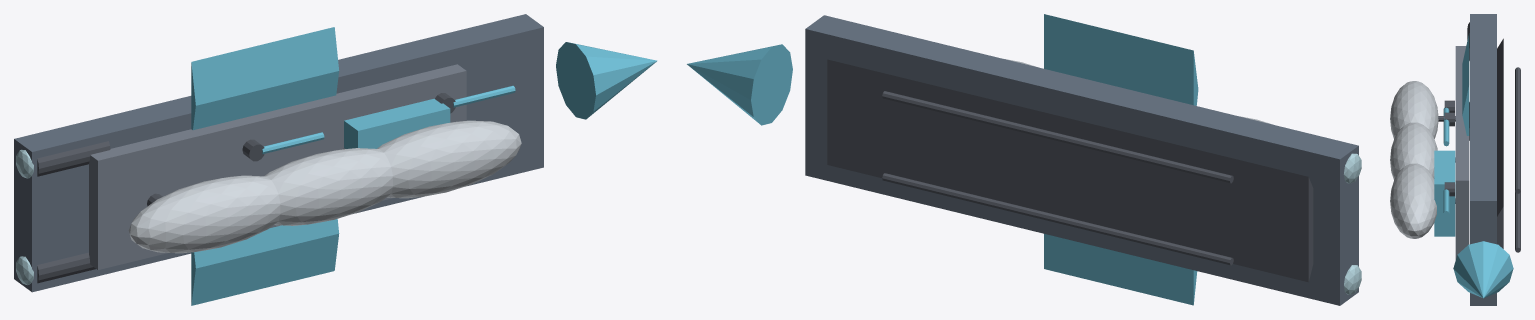
File: SWS-006_tempest_frigate.glb
The picture shows the model from 3 angles, left to right: view 1: azimuth 30°, elevation 25°; view 2: azimuth 150°, elevation 25°; view 3: azimuth 270°, elevation 25°; orthographic projection. The views are drawn at different scales.
Visible parts, largest first — view 1: main_hull, upper_deck, wing_1, aether_lift_bladder_1, wing_-1, aether_lift_bladder_3, aether_lift_bladder_2, aether_nose, bridge, engine_pod_1, engine_pod_-1, turret_barrel_2 (+1 smaller); view 2: keel, main_hull, wing_1, wing_-1, aether_nose, landing_skid_-1, landing_skid_1; view 3: main_hull, aether_lift_bladder_3, aether_nose, upper_deck, aether_lift_bladder_1, aether_lift_bladder_2, bridge, keel, landing_skid_1, wing_1, landing_skid_-1, turret_barrel_4 (+4 smaller).
Part boxes in pixels (x1,y1,x2,y2): main_hull: [14, 14, 543, 292]; upper_deck: [89, 64, 466, 269]; wing_1: [191, 27, 339, 130]; aether_lift_bladder_1: [128, 175, 280, 253]; wing_-1: [191, 219, 339, 305]; aether_lift_bladder_3: [377, 120, 521, 198]; aether_lift_bladder_2: [264, 148, 392, 225]; aether_nose: [556, 42, 657, 119]; bridge: [344, 98, 450, 148]; engine_pod_1: [37, 141, 110, 176]; engine_pod_-1: [37, 252, 95, 283]; turret_barrel_2: [262, 132, 324, 154]; keel: [827, 59, 1313, 282]; main_hull: [805, 15, 1358, 305]; wing_1: [1044, 14, 1198, 105]; wing_-1: [1044, 234, 1197, 305]; aether_nose: [687, 44, 792, 125]; landing_skid_-1: [882, 173, 1233, 265]; landing_skid_1: [882, 91, 1233, 183]; main_hull: [1470, 14, 1496, 305]; aether_lift_bladder_3: [1390, 163, 1436, 238]; aether_nose: [1453, 241, 1513, 298]; upper_deck: [1455, 46, 1469, 259]; aether_lift_bladder_1: [1390, 81, 1438, 138]; aether_lift_bladder_2: [1390, 122, 1437, 179]; bridge: [1434, 150, 1455, 236]; keel: [1497, 38, 1503, 248]; landing_skid_1: [1515, 67, 1520, 193]; wing_1: [1462, 33, 1469, 135]; landing_skid_-1: [1515, 191, 1520, 252]; turret_barrel_4: [1443, 189, 1449, 215].
Bounding box in the file's own units: 52.58 × 19.14 × 12.43.
